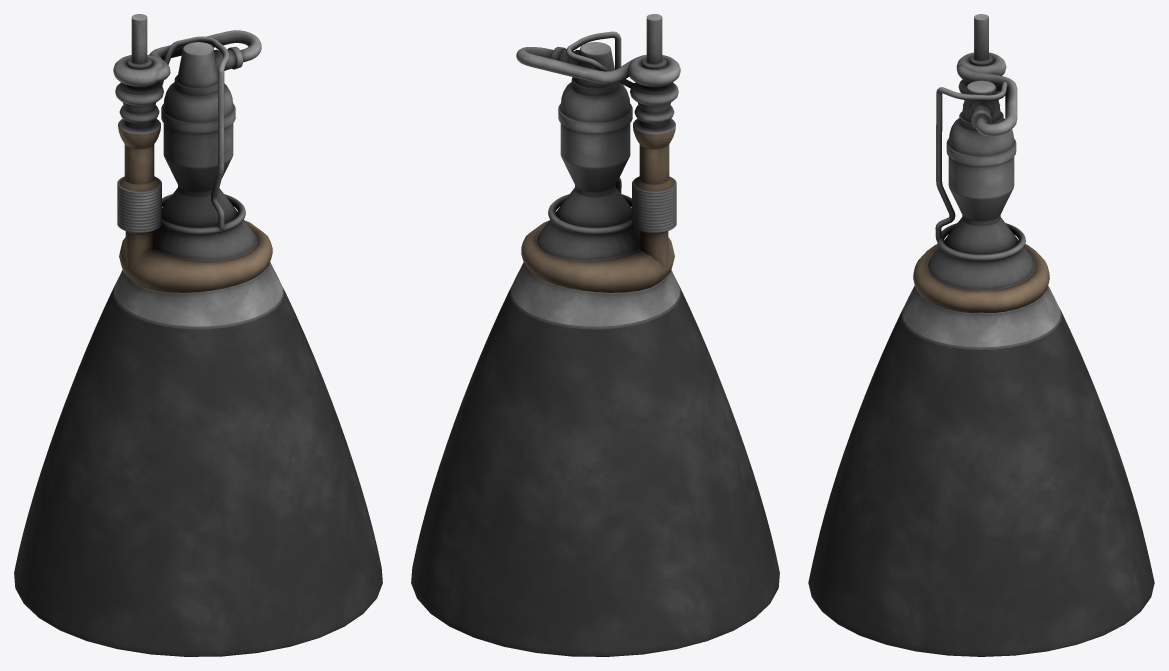
File: engine_merlin_vac.glb
3 views of the same model, side by side, from view 1: azimuth 30°, elevation 25°; view 2: azimuth 150°, elevation 25°; view 3: azimuth 270°, elevation 25° (orthographic). The views are drawn at different scales.
Visible parts, largest first — view 1: engine_merlin_vac_engine; view 2: engine_merlin_vac_engine; view 3: engine_merlin_vac_engine.
Boxes of the visible parts, bbox=[...] form: engine_merlin_vac_engine: bbox=[14, 14, 382, 656]; engine_merlin_vac_engine: bbox=[411, 14, 779, 656]; engine_merlin_vac_engine: bbox=[808, 14, 1154, 656].
Bounding box in the file's own units: 3.3 × 5.68 × 3.3.
Materials: 1 (1 with a texture image).
